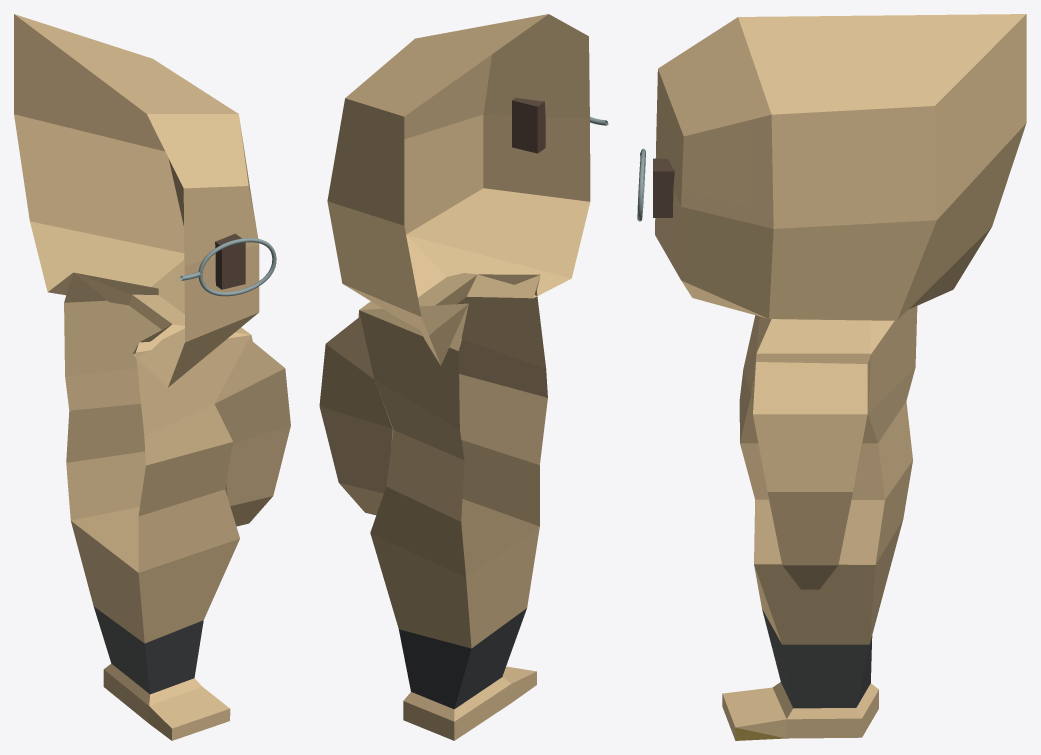
Rendered from teacher.gltf.
3 renders of one model, left to right at view 1: azimuth 30°, elevation 25°; view 2: azimuth 150°, elevation 25°; view 3: azimuth 270°, elevation 25°, orthographic. The views are drawn at different scales.
Parts seen in each view (by area): view 1: 身體, 褲子.002, 立方體, 眼鏡; view 2: 身體, 褲子.002, 立方體; view 3: 身體, 褲子.002, 立方體.
Boxes of the visible parts, x1,y1,x2,y2 form: 身體: (14,14,290,740); 褲子.002: (93,606,203,694); 立方體: (215,233,245,289); 眼鏡: (198,238,276,296); 身體: (319,14,590,740); 褲子.002: (399,608,526,709); 立方體: (512,98,545,153); 身體: (655,14,1026,739); 褲子.002: (762,609,872,708); 立方體: (653,158,674,217).
Size of the model in its own units: 0.6972 by 2.49 by 1.28.
